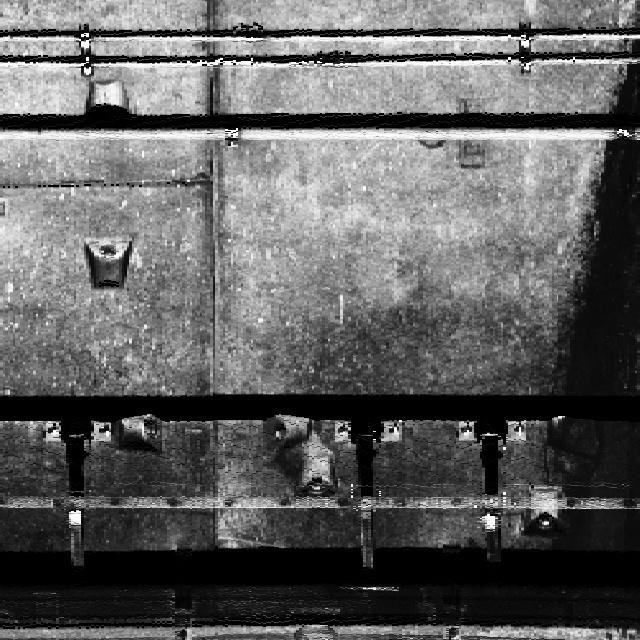leakage: (540, 24, 639, 635)
